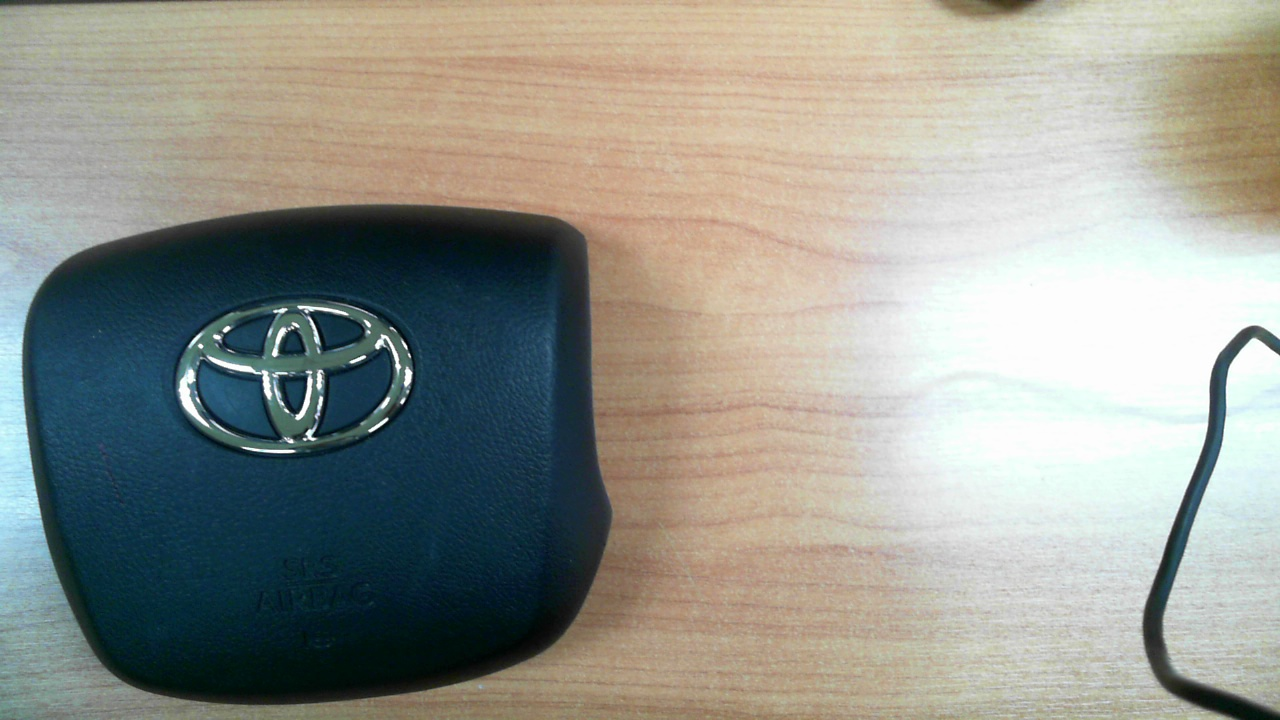Airbag: (18, 207, 613, 708)
Toyota: (175, 298, 414, 455)
